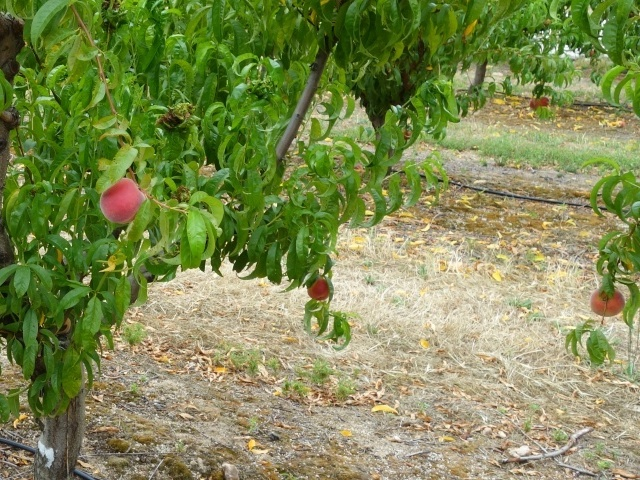peach: (98, 177, 147, 227), (586, 285, 625, 322), (305, 273, 334, 303)
